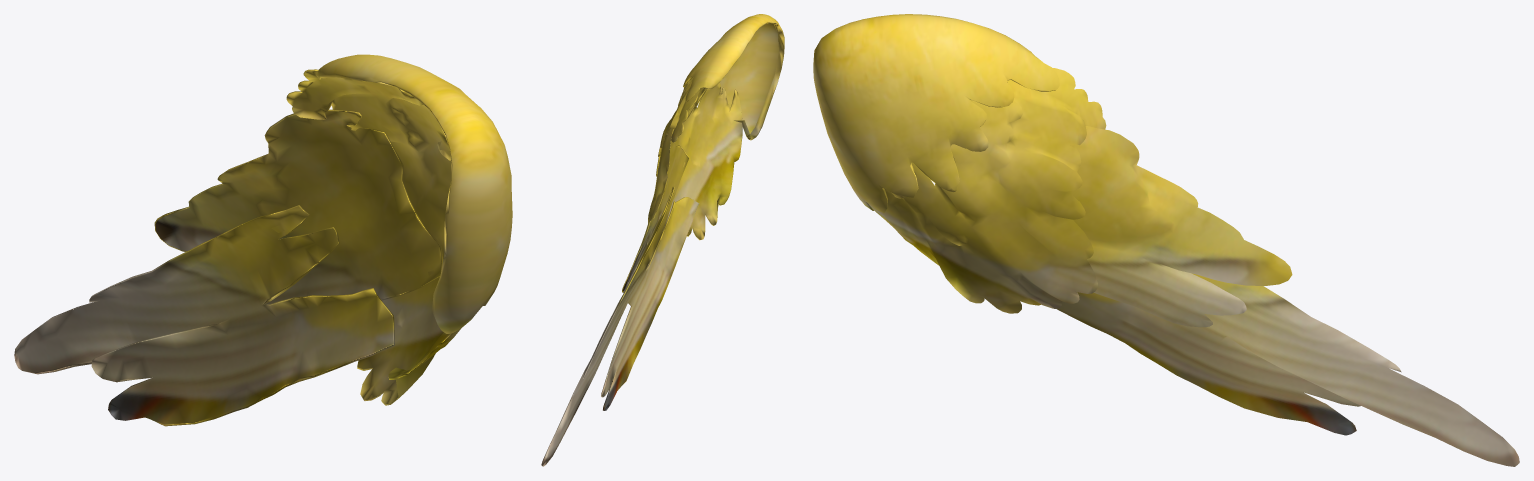
File: hinge_wing_L.fbx
3 renders of one model, left to right at view 1: azimuth 30°, elevation 25°; view 2: azimuth 150°, elevation 25°; view 3: azimuth 270°, elevation 25°, orthographic. The views are drawn at different scales.
Visible parts, largest first — view 1: Love_wings_L; view 2: Love_wings_L; view 3: Love_wings_L.
Part boxes in pixels (<box>): Love_wings_L: <box>14,54,512,426</box>; Love_wings_L: <box>541,14,784,466</box>; Love_wings_L: <box>813,14,1519,466</box>.
Size of the model in its own units: 44.82 by 212 by 303.
Materials: 1 (1 with a texture image).
